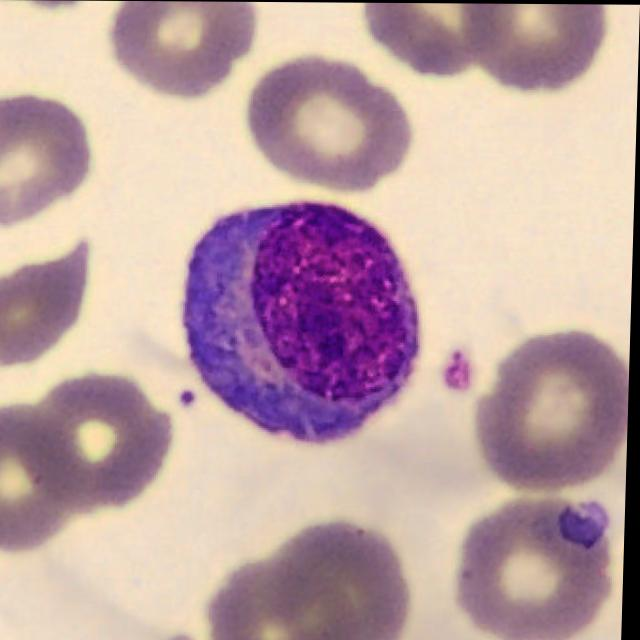Linfocito atipico: (183, 203, 424, 444)
